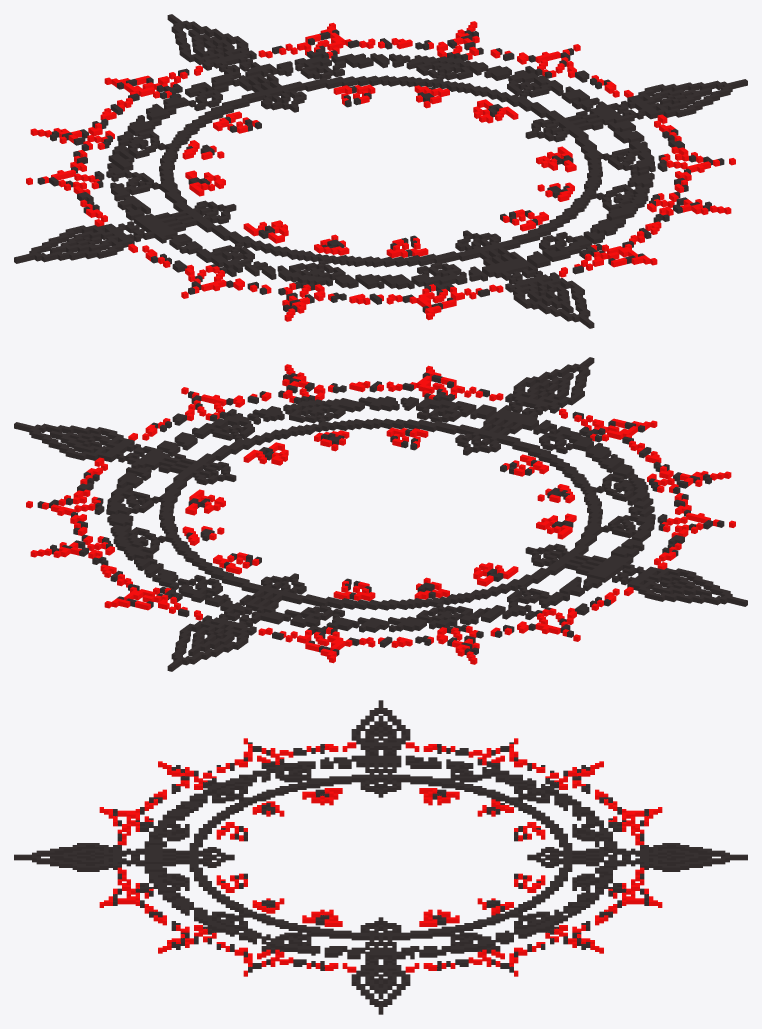
File: 防御立场.gltf
3 views of the same model, one above another, from view 1: azimuth 30°, elevation 25°; view 2: azimuth 150°, elevation 25°; view 3: azimuth 270°, elevation 25° (orthographic). The views are drawn at different scales.
Visible parts, largest first — view 1: Object; view 2: Object; view 3: Object.
Boxes of the visible parts, x1,y1,x2,y2 form: Object: (14, 14, 747, 328); Object: (14, 357, 747, 671); Object: (14, 700, 747, 1014).
Bounding box in the file's own units: 163 × 1 × 163.
1 material, 1 textured.
